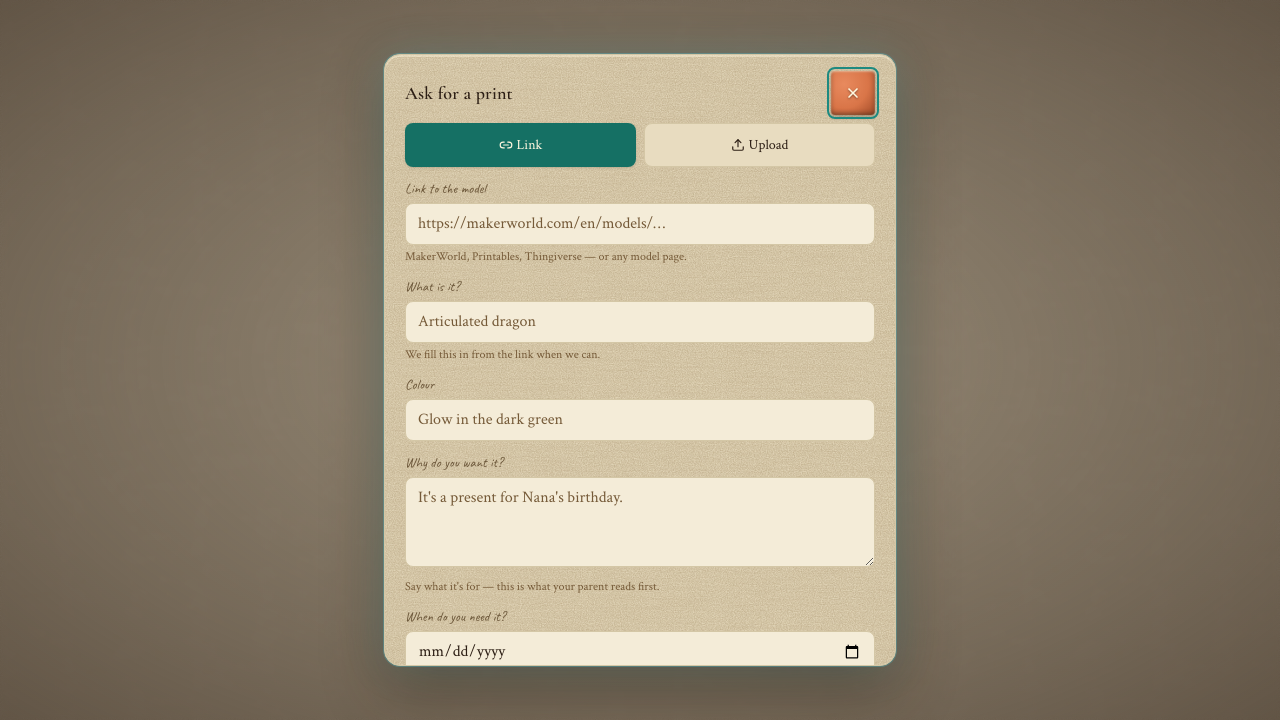
Test case: PrintRequestModal › previews the link on blur and fills the title from the scrape
Type "https://makerworld.com/en/models/1" into the field labelled "Link to the model" at (640, 224), box [405, 203, 875, 245]
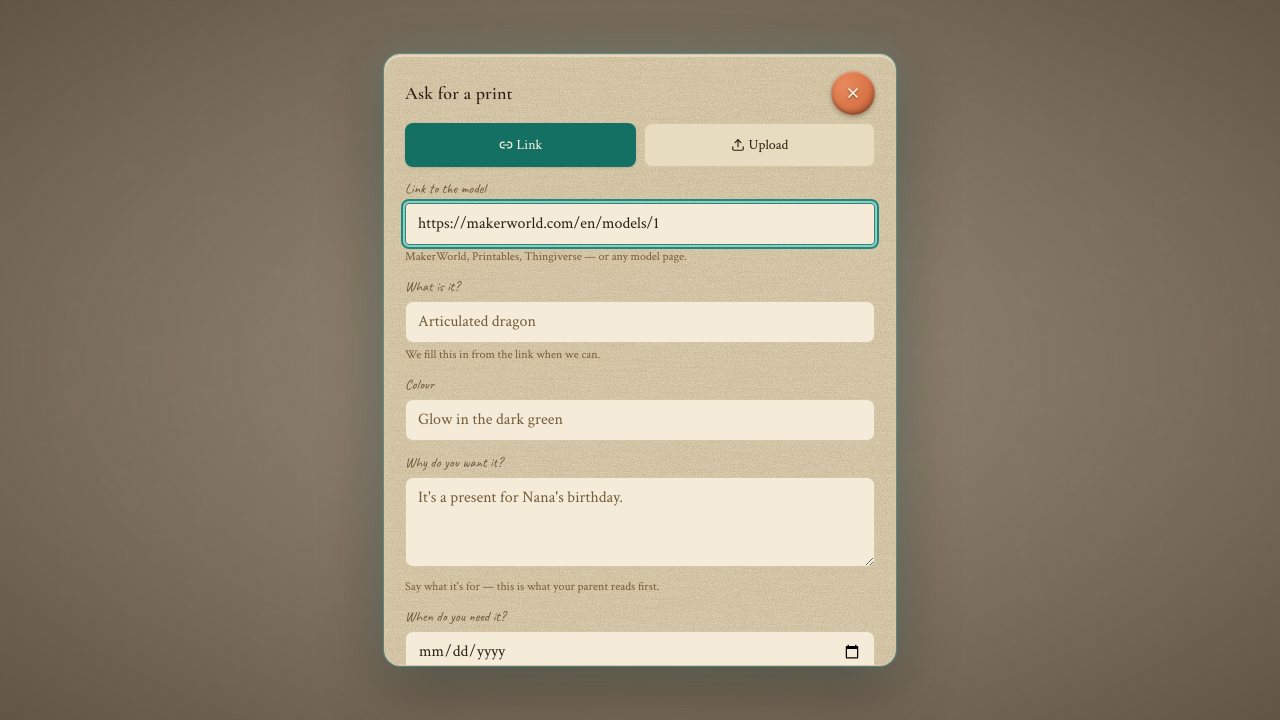
Press Tab
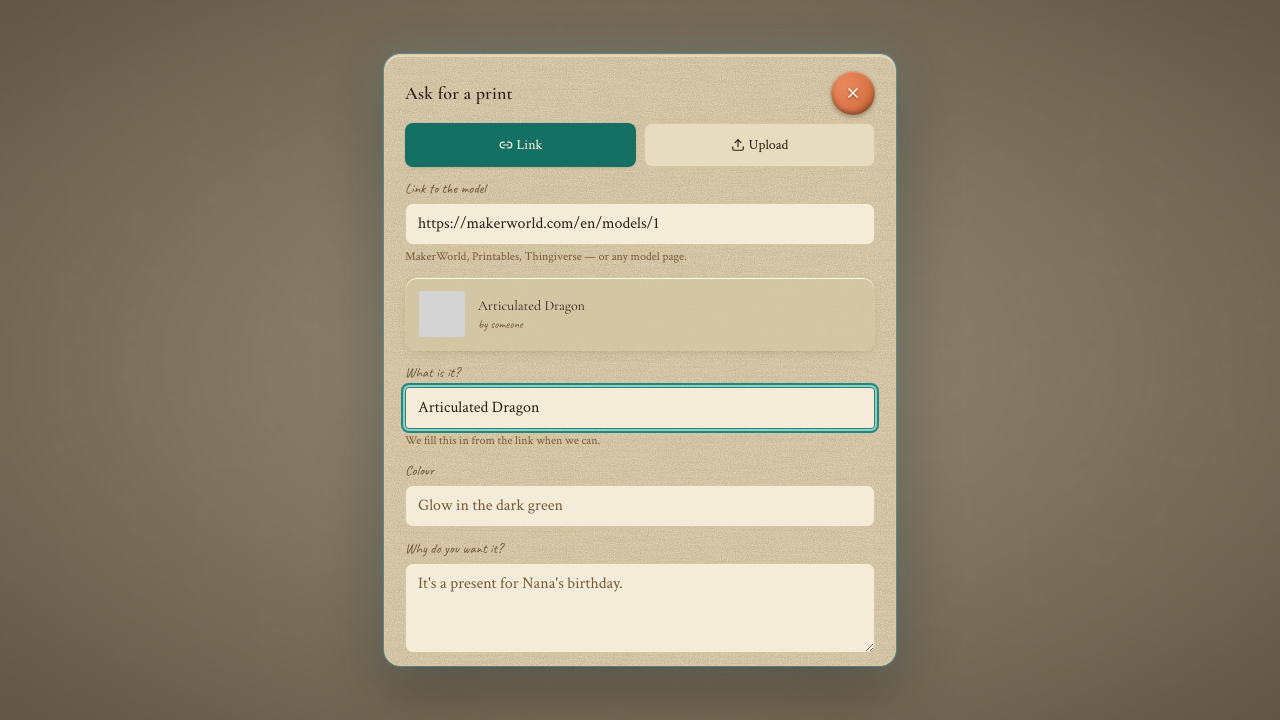
Expected: the text "Articulated Dragon" is shown, [478, 296, 585, 316]
Expected: the text "by someone" is shown, [478, 316, 523, 332]
Expected: the field labelled "What is it?" holds "Articulated Dragon", [405, 387, 875, 429]
